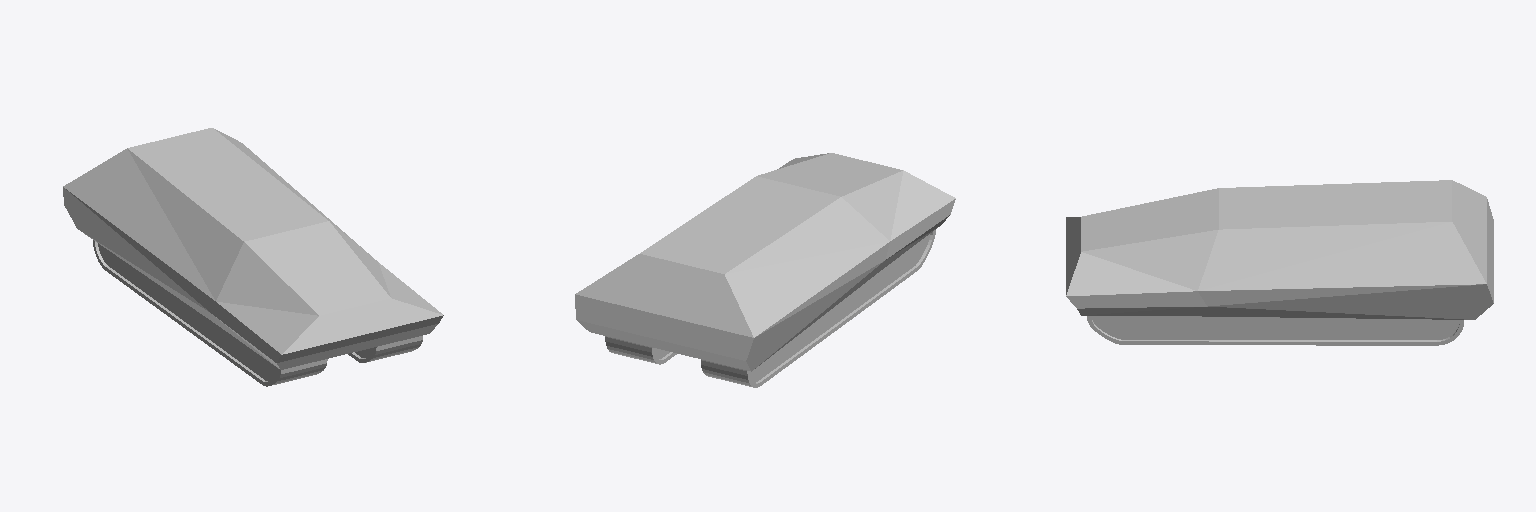
Rendered from body.obj.
3 renders of one model, left to right at view 1: azimuth 30°, elevation 25°; view 2: azimuth 150°, elevation 25°; view 3: azimuth 270°, elevation 25°, orthographic.
Parts seen in each view (by area): view 1: Cylinder.001; view 2: Cylinder.001; view 3: Cylinder.001.
Part boxes in pixels (left/top/right/bottom): Cylinder.001: left=63, top=128, right=443, bottom=386; Cylinder.001: left=575, top=153, right=955, bottom=387; Cylinder.001: left=1066, top=180, right=1493, bottom=345.
Size of the model in its own units: 3.7 by 2.18 by 7.65.